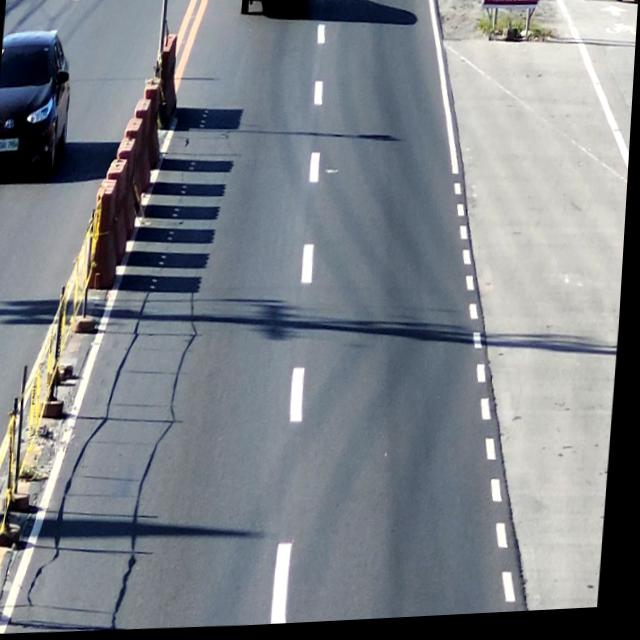License-Plate: (0, 137, 25, 154)
